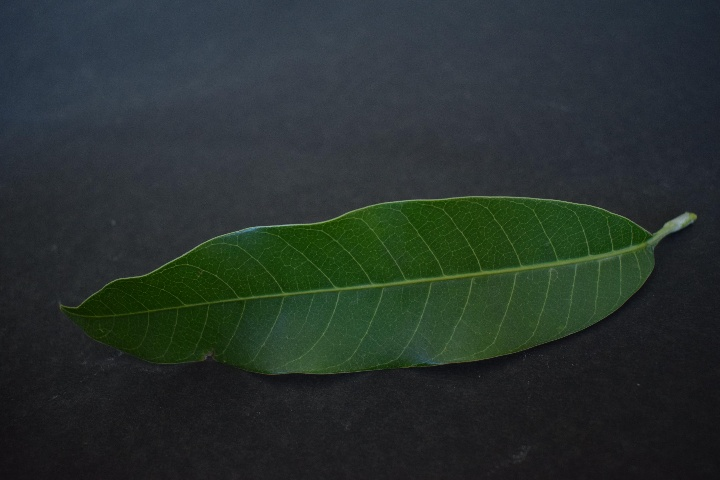healthy: (90, 191, 655, 385)
